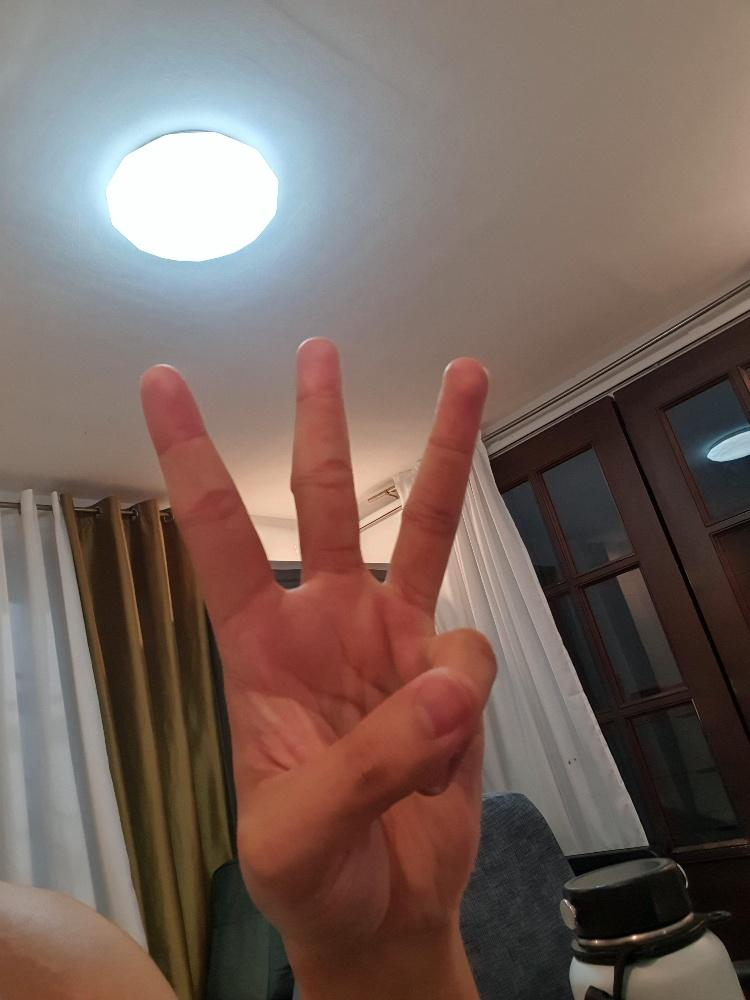w: (133, 333, 505, 958)
